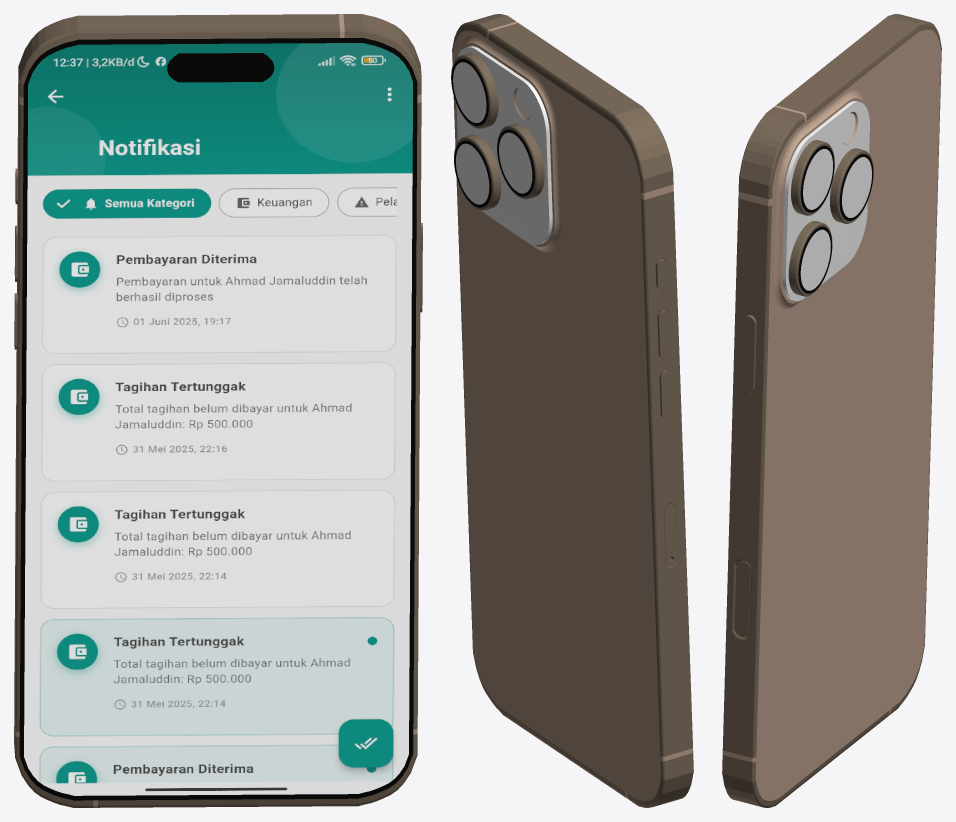
File: mockup3.glb
3 renders of one model, left to right at view 1: azimuth 30°, elevation 25°; view 2: azimuth 150°, elevation 25°; view 3: azimuth 270°, elevation 25°, orthographic. The views are drawn at different scales.
Parts seen in each view (by area): view 1: case; view 2: case; view 3: case.
Boxes of the visible parts, box(x1,y1,x2,y2) form: case: box(14, 14, 422, 807); case: box(451, 14, 693, 807); case: box(722, 14, 941, 807).
Size of the model in its own units: 1.38 by 3.03 by 0.8686.
12 materials, 1 textured.
